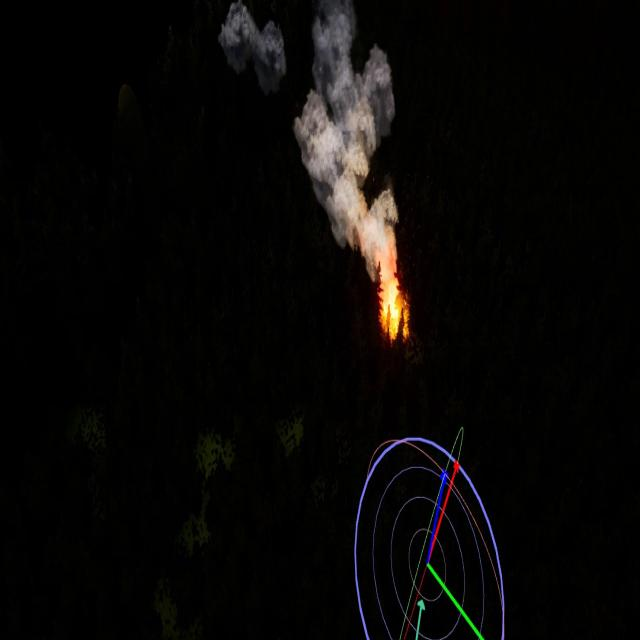fire: (376, 268, 411, 340)
smoke: (295, 0, 403, 277)
